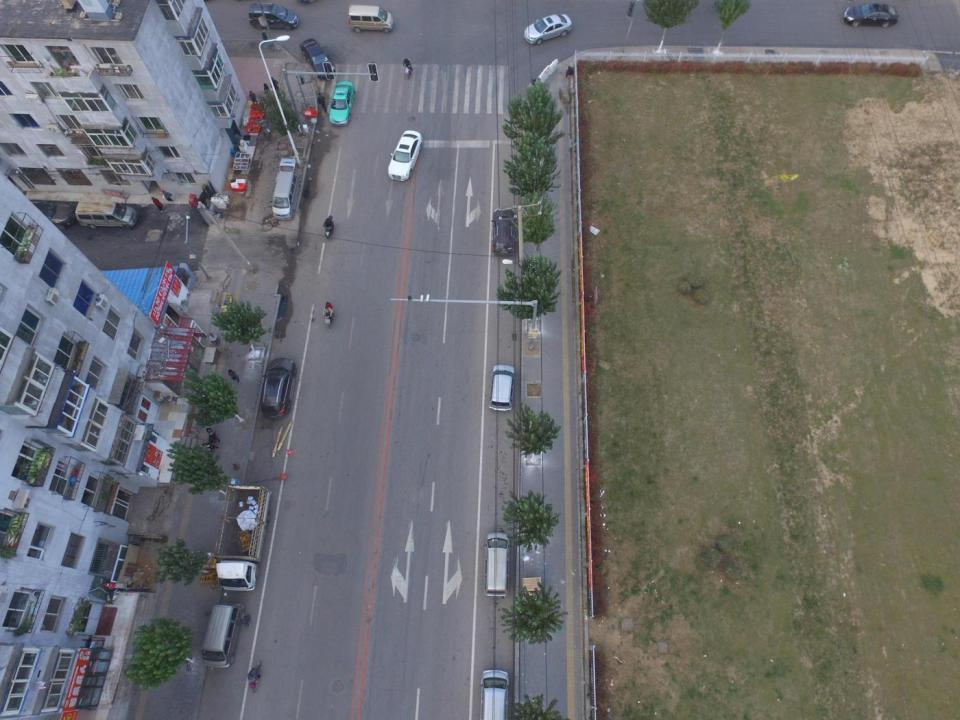car: (261, 357, 296, 419), (388, 130, 422, 181), (842, 2, 900, 30), (21, 202, 74, 230), (524, 14, 572, 44), (300, 38, 335, 79), (329, 81, 355, 125), (492, 208, 516, 254)
truck: (213, 486, 270, 590)
van: (202, 604, 244, 668), (76, 201, 138, 229), (272, 159, 299, 220), (483, 533, 509, 596), (479, 670, 508, 720), (249, 3, 298, 31), (348, 4, 393, 34), (488, 365, 514, 411)
